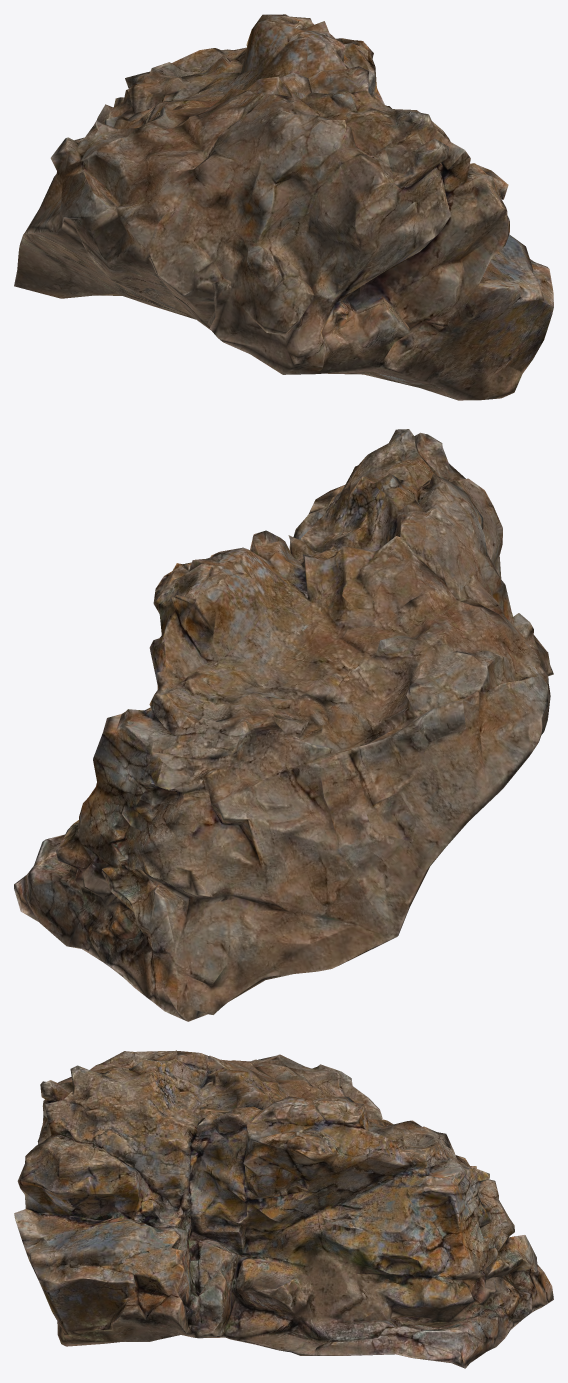
The model's file is boulder_01_lo.glb.
3 renders of one model, top to bottom at view 1: azimuth 30°, elevation 25°; view 2: azimuth 150°, elevation 25°; view 3: azimuth 270°, elevation 25°, orthographic. The views are drawn at different scales.
Parts seen in each view (by area): view 1: boulder_01; view 2: boulder_01; view 3: boulder_01.
Part boxes in pixels (left/top/right/bottom): boulder_01: left=14, top=14, right=553, bottom=400; boulder_01: left=14, top=429, right=553, bottom=1021; boulder_01: left=14, top=1050, right=553, bottom=1368.
Size of the model in its own units: 1.26 by 0.9962 by 1.82.
Materials: 1 (1 with a texture image).
